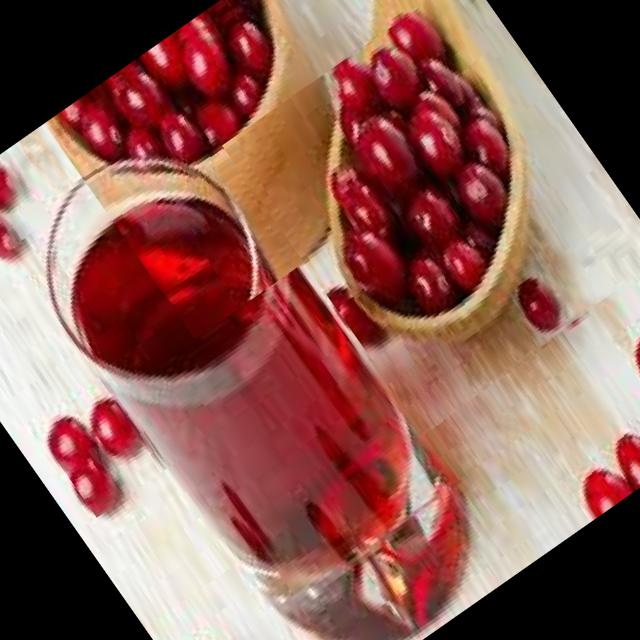Organic: (221, 0, 640, 434), (43, 0, 417, 338), (36, 378, 170, 516), (554, 408, 640, 519), (0, 154, 47, 260)
